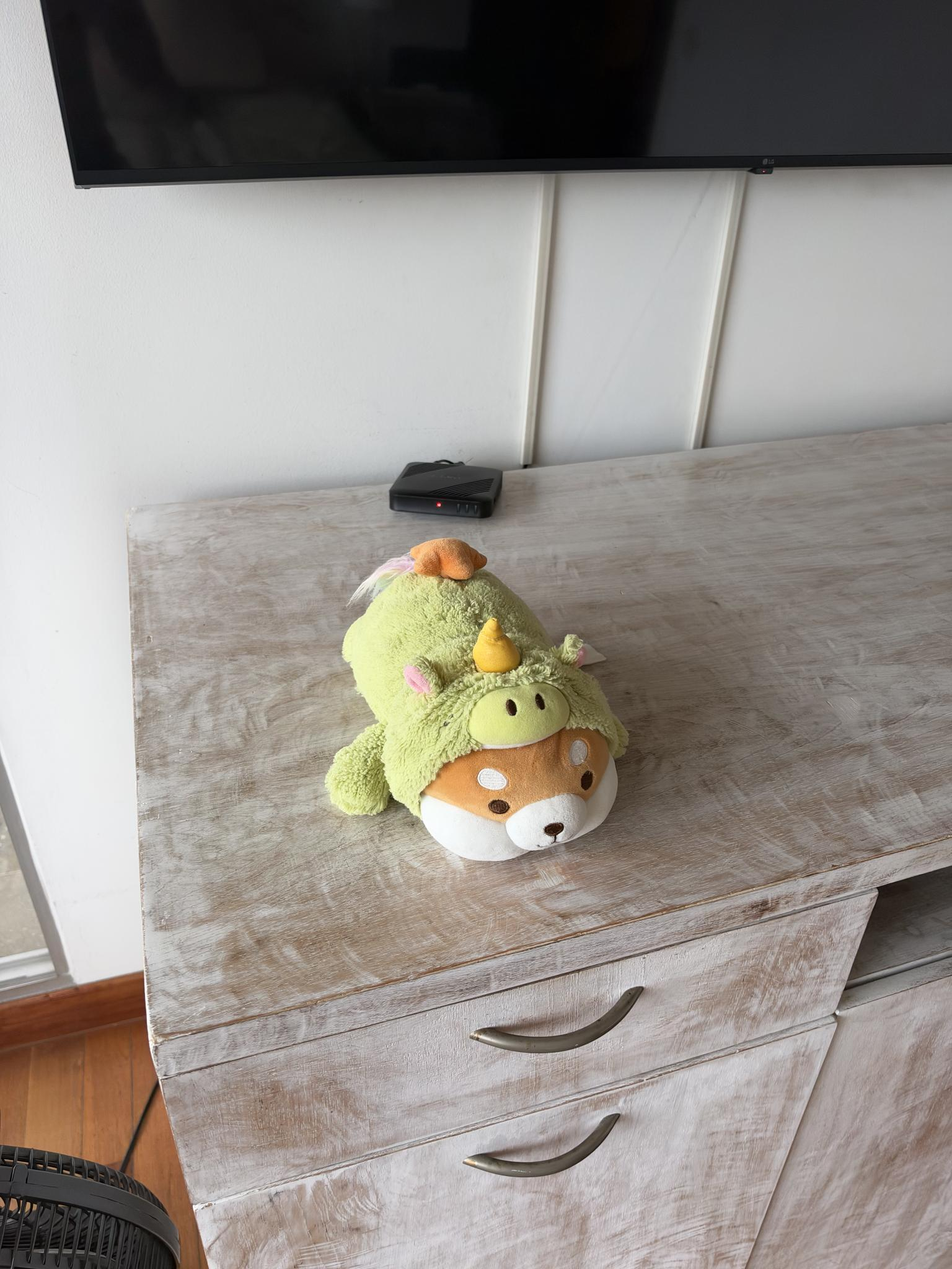peluche_martin: (323, 537, 630, 863)
